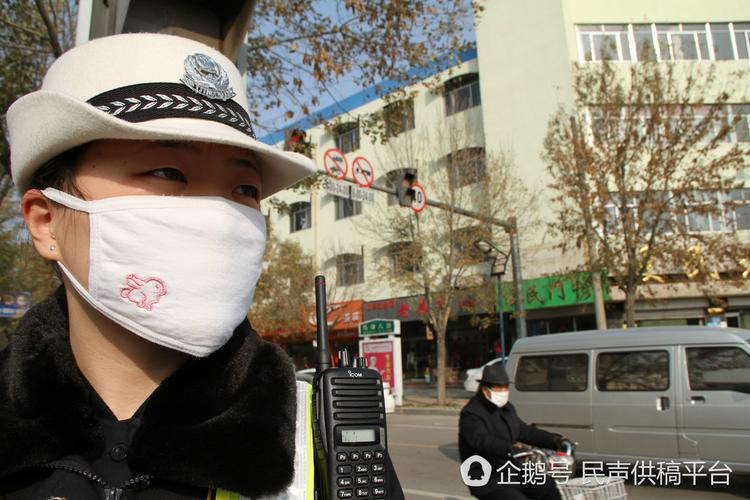mask: (68, 132, 282, 355)
